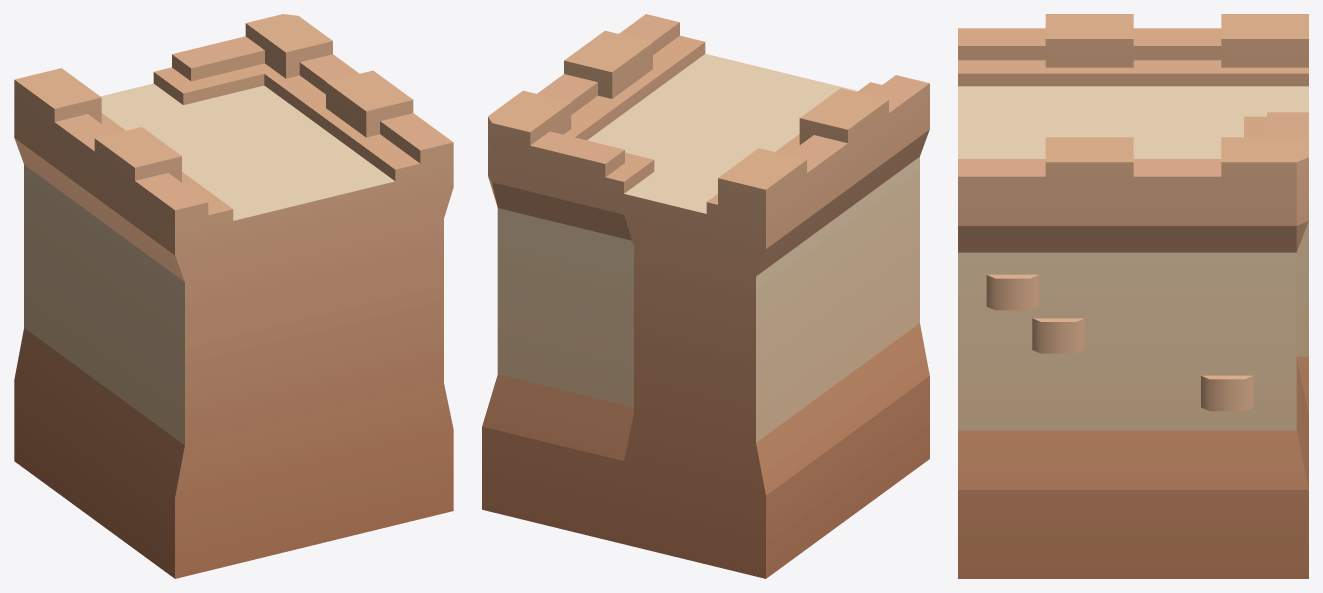
The model's file is wall-to-narrow.glb.
3 views of the same model, side by side, from view 1: azimuth 30°, elevation 25°; view 2: azimuth 150°, elevation 25°; view 3: azimuth 270°, elevation 25° (orthographic). The views are drawn at different scales.
Visible parts, largest first — view 1: wall-to-narrow; view 2: wall-to-narrow; view 3: wall-to-narrow.
Part boxes in pixels (bbox=[...]): wall-to-narrow: bbox=[14, 14, 453, 578]; wall-to-narrow: bbox=[482, 14, 929, 578]; wall-to-narrow: bbox=[958, 14, 1308, 578].
Size of the model in its own units: 1 by 1.31 by 1.
Materials: 1 (1 with a texture image).
